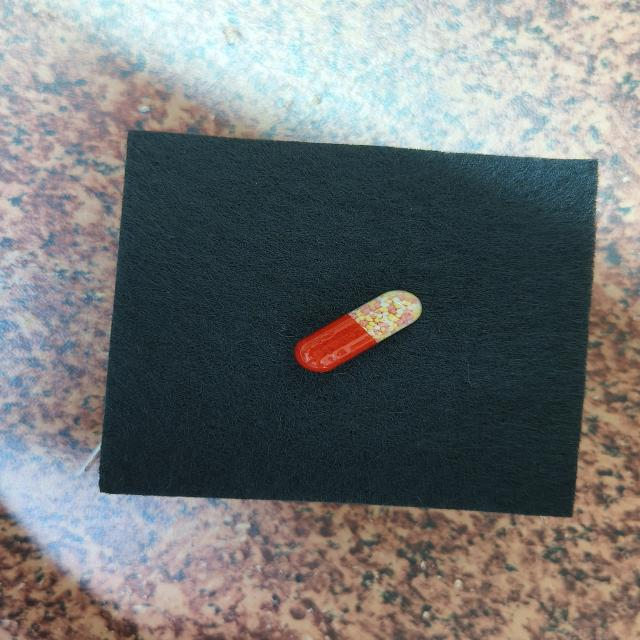Intact Capsule: (294, 290, 422, 372)
